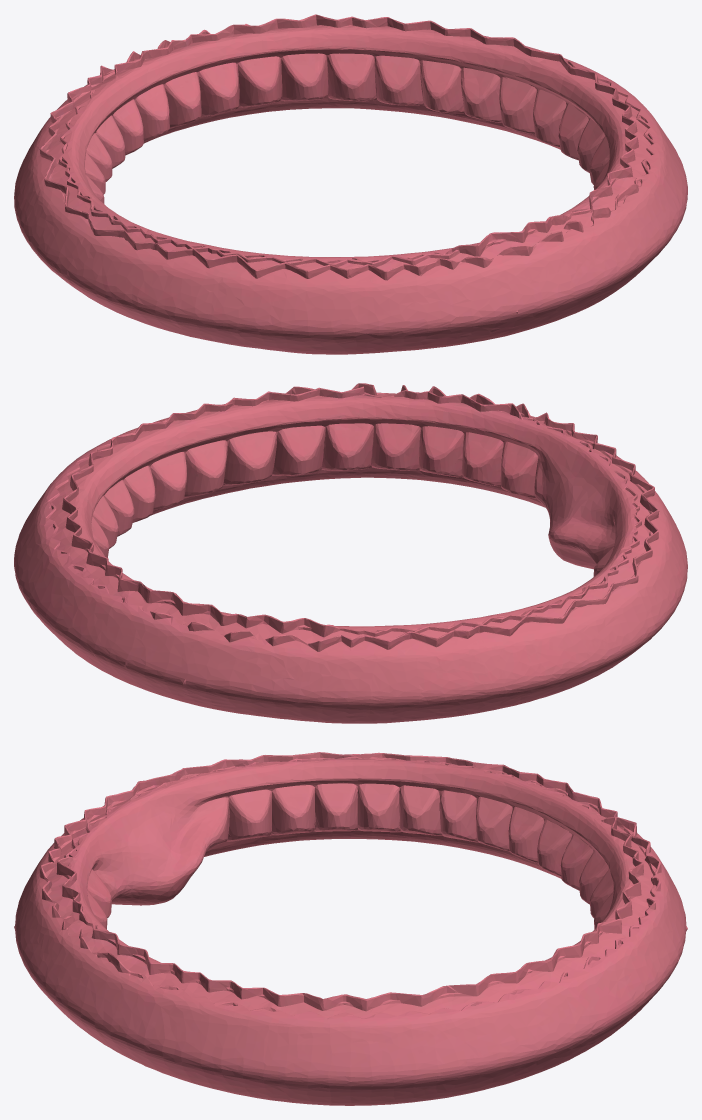
Rendered from toy_14.glb.
3 renders of one model, top to bottom at view 1: azimuth 30°, elevation 25°; view 2: azimuth 150°, elevation 25°; view 3: azimuth 270°, elevation 25°, orthographic.
Parts seen in each view (by area): view 1: tripo_node_52ec02f9-3f64-4bb0-9847-7942d3e88557; view 2: tripo_node_52ec02f9-3f64-4bb0-9847-7942d3e88557; view 3: tripo_node_52ec02f9-3f64-4bb0-9847-7942d3e88557.
Part boxes in pixels (x1,y1,x2,y2): tripo_node_52ec02f9-3f64-4bb0-9847-7942d3e88557: [14, 14, 687, 354]; tripo_node_52ec02f9-3f64-4bb0-9847-7942d3e88557: [14, 383, 687, 723]; tripo_node_52ec02f9-3f64-4bb0-9847-7942d3e88557: [14, 752, 687, 1105].
Size of the model in its own units: 1.03 by 0.1749 by 1.
Materials: 1 (1 with a texture image).
